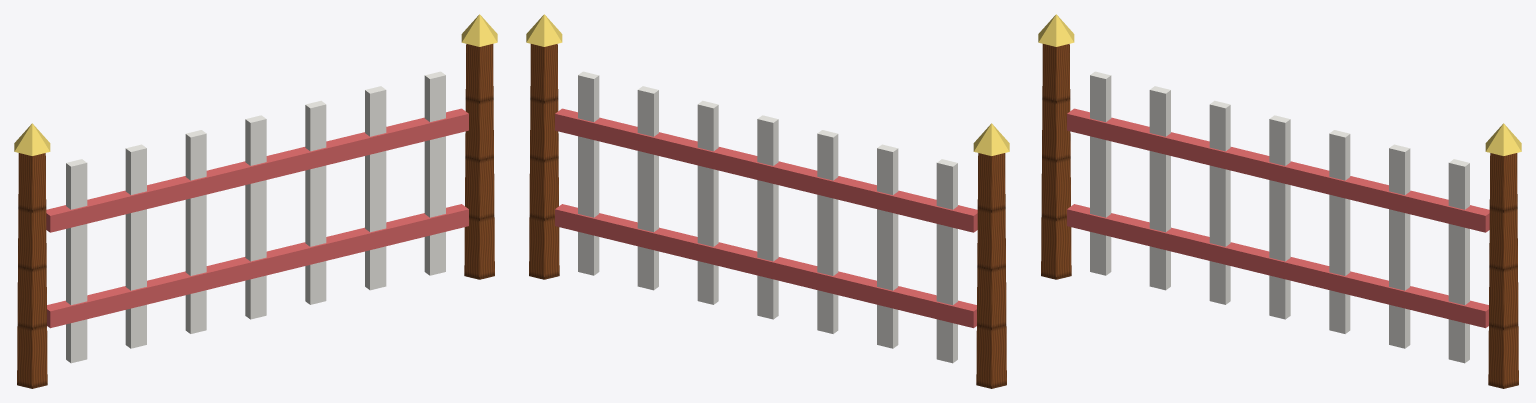
Rendered from travelling-circus-and-big-top-showground-fence-panel-9ac169bc__36240.glb.
The picture shows the model from 3 angles, left to right: view 1: azimuth 30°, elevation 25°; view 2: azimuth 150°, elevation 25°; view 3: azimuth 330°, elevation 25°; orthographic projection.
Parts seen in each view (by area): view 1: showground-fence-panel-canvas, showground-fence-panel-stripe, showground-fence-panel-timber, showground-fence-panel-gold; view 2: showground-fence-panel-canvas, showground-fence-panel-stripe, showground-fence-panel-timber, showground-fence-panel-gold; view 3: showground-fence-panel-canvas, showground-fence-panel-stripe, showground-fence-panel-timber, showground-fence-panel-gold.
Boxes of the visible parts, x1,y1,x2,y2 form: showground-fence-panel-canvas: (66, 71, 445, 363); showground-fence-panel-stripe: (46, 108, 468, 328); showground-fence-panel-timber: (17, 44, 494, 388); showground-fence-panel-gold: (14, 14, 497, 155); showground-fence-panel-canvas: (578, 71, 957, 363); showground-fence-panel-stripe: (555, 108, 977, 328); showground-fence-panel-timber: (529, 44, 1006, 388); showground-fence-panel-gold: (526, 14, 1009, 155); showground-fence-panel-canvas: (1090, 71, 1469, 363); showground-fence-panel-stripe: (1067, 108, 1489, 328); showground-fence-panel-timber: (1041, 44, 1518, 388); showground-fence-panel-gold: (1038, 14, 1521, 155).
Bounding box in the file's own units: 2.7 × 1.38 × 0.173.
Materials: 4 (1 with a texture image).
